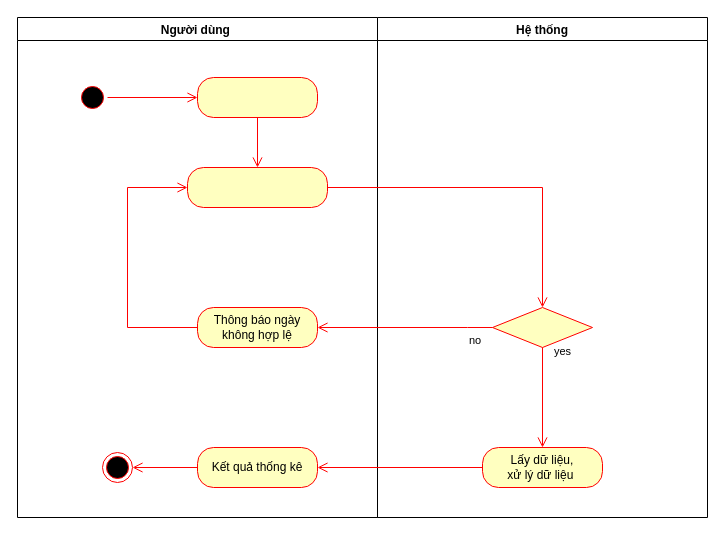
The diagram is 725 pixels wide and 535 high, and some of its shapes have lost their labels. The shapes that lost their labels are listed below. From the top down, each one's centre as x and y in pixels, then its label:
At point 257,97: "Mở trang quản lý hóa đơn bán hàng".
At point 257,187: "Chọn thống kê hóa đơn, nhập khoảng ngày".
At point 542,327: "Ngày hợp lệ?".
